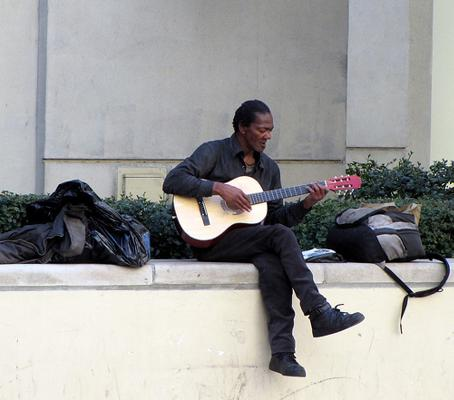person: (161, 99, 366, 381)
